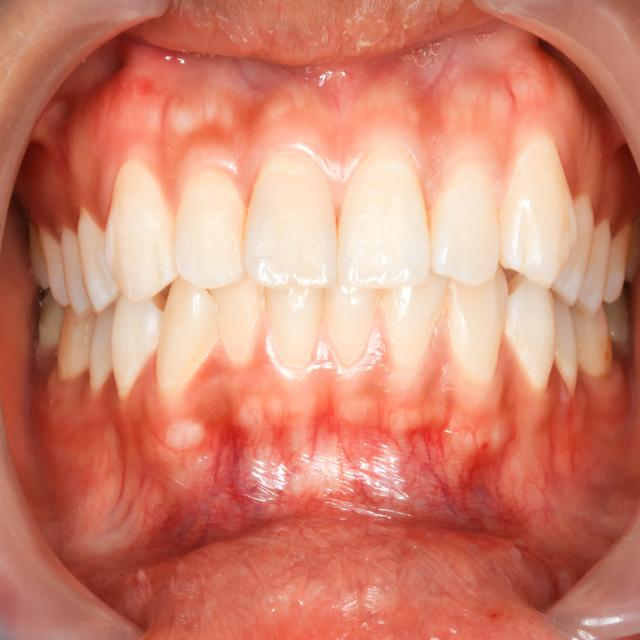Tooth: (337, 142, 430, 289), (244, 150, 338, 290), (499, 135, 578, 289), (104, 156, 180, 303), (173, 170, 249, 289), (430, 161, 500, 286), (447, 264, 508, 385), (156, 275, 219, 391), (382, 270, 448, 369), (505, 273, 556, 393), (111, 294, 163, 399), (209, 274, 266, 362), (323, 279, 380, 362), (78, 208, 121, 315), (266, 289, 324, 367), (61, 227, 93, 319), (90, 301, 118, 393)
